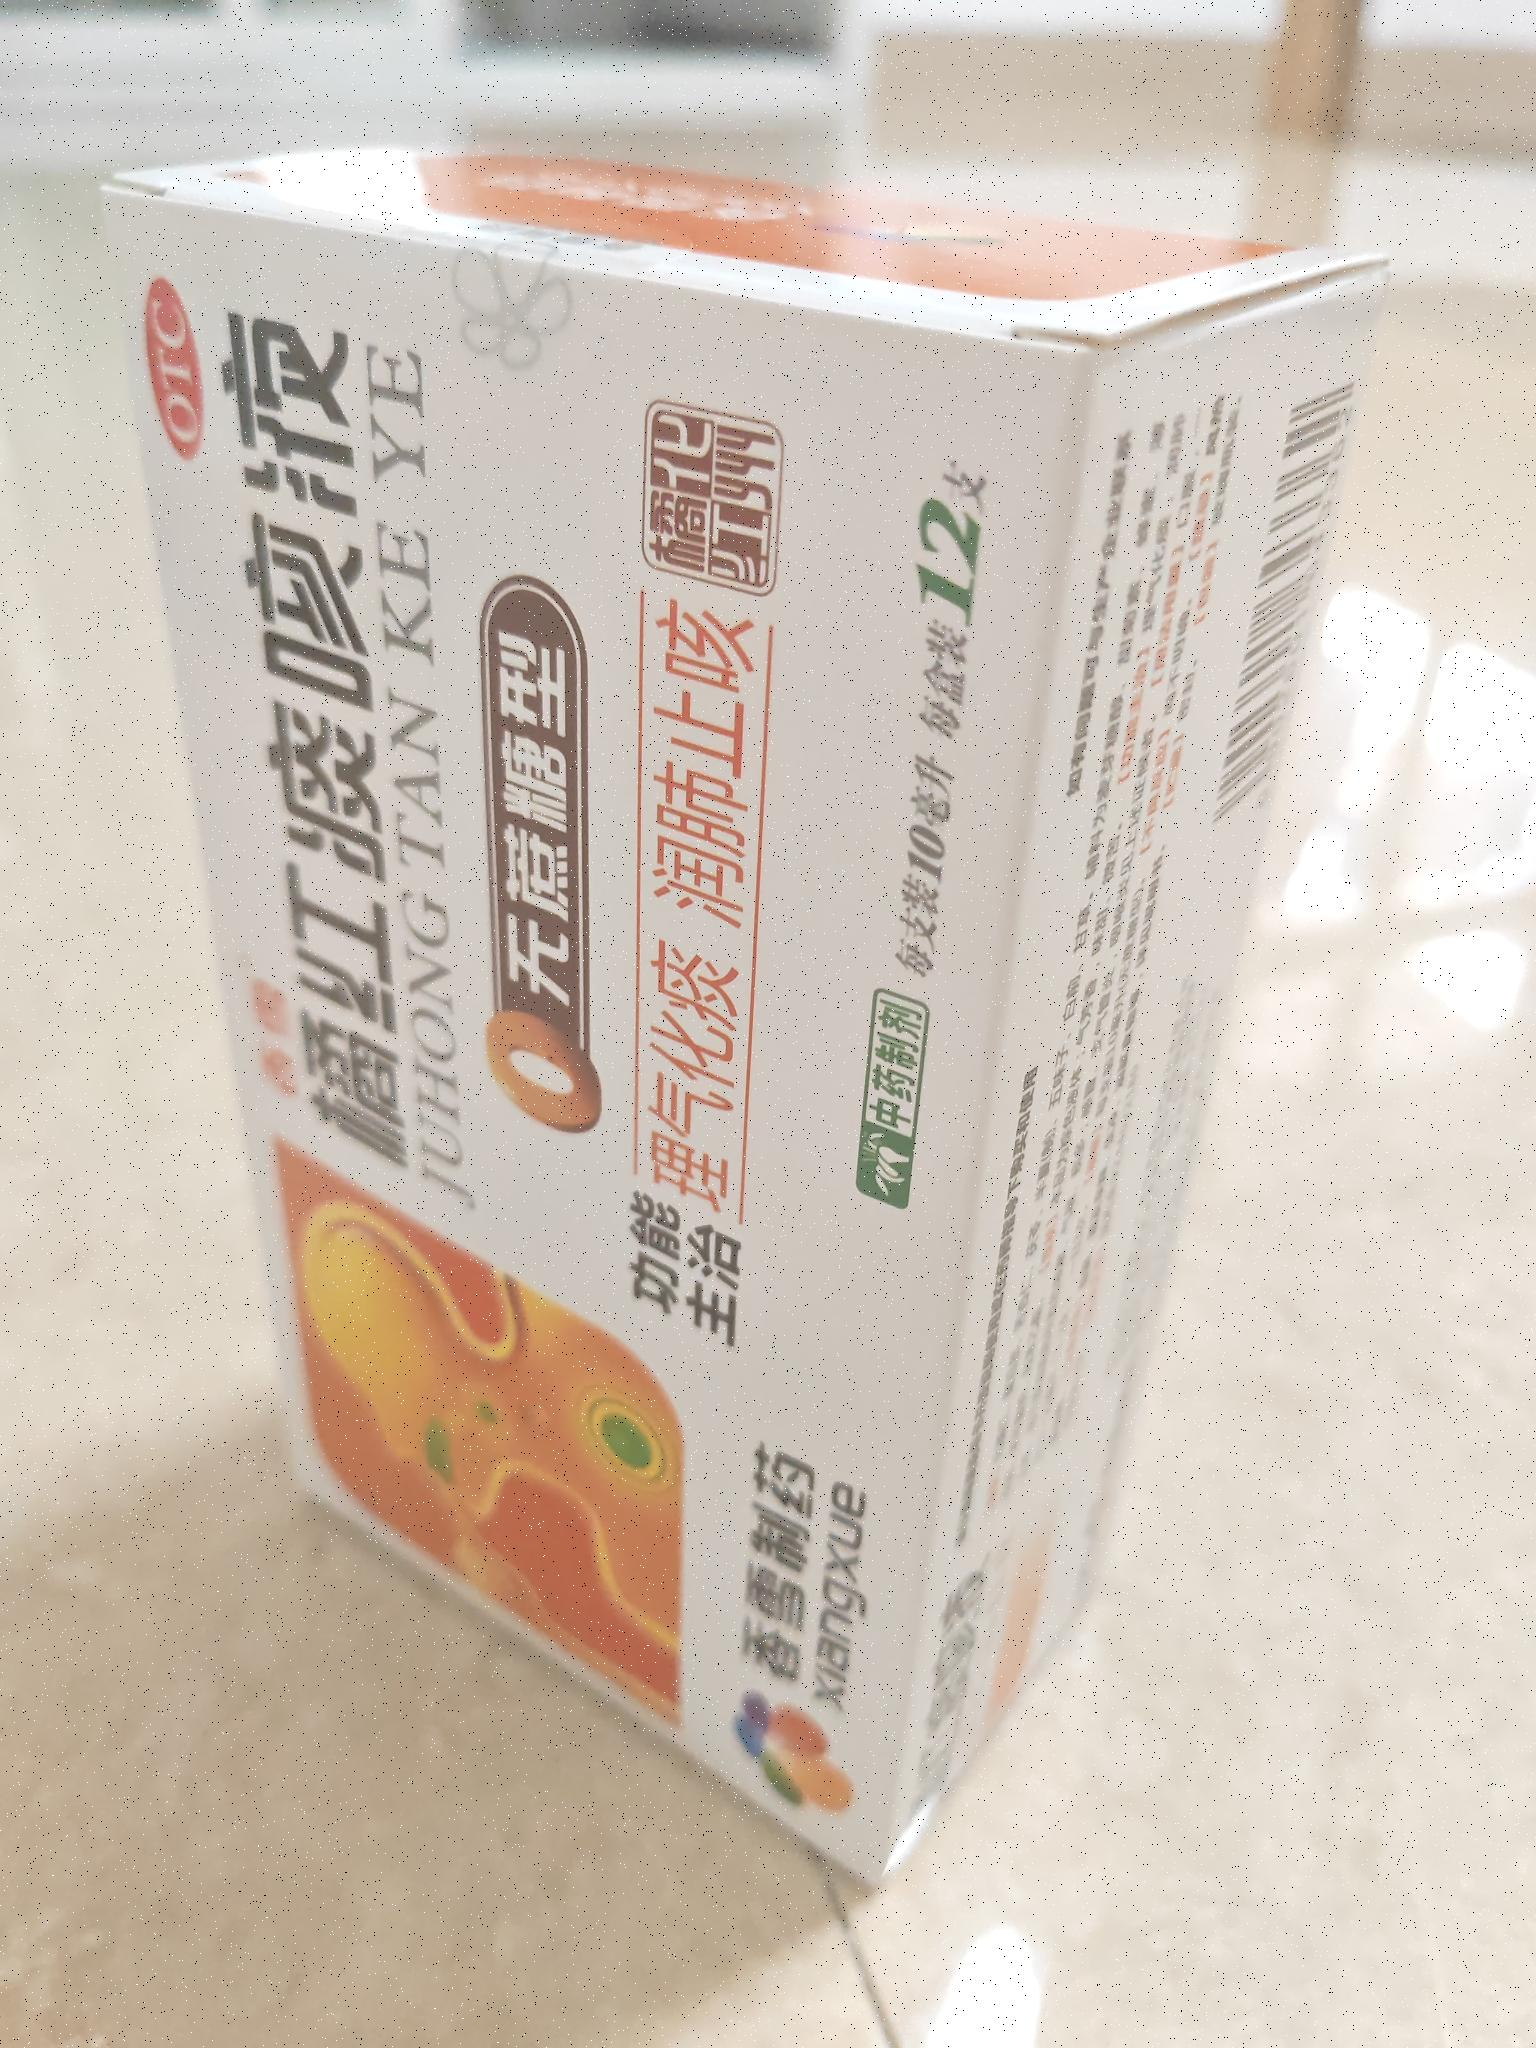Medicine1: (86, 132, 1423, 1919)
